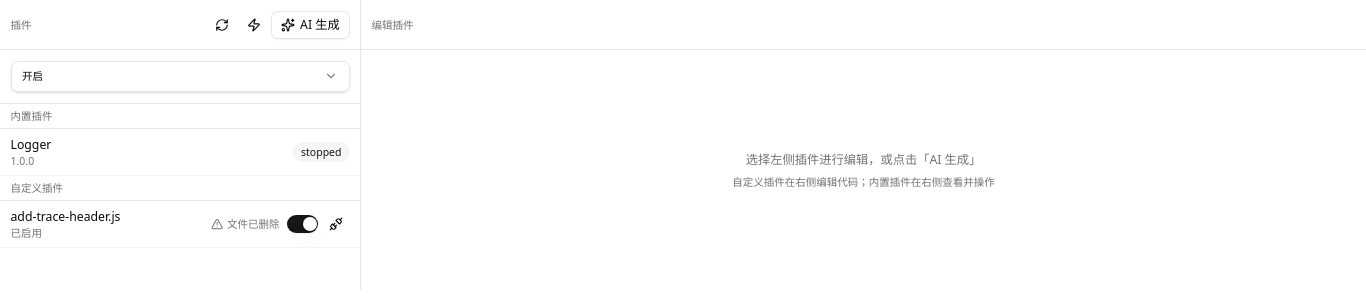
Test: PluginConfig list|edit › loaded plugin whose file was deleted › shows a muted note in the details pane explaining the file is gone
Click the element with test id "plugin-config-row-custom-deleted-add-trace-header" at (180, 224), box top-left (0, 201), bottom-right (360, 248)
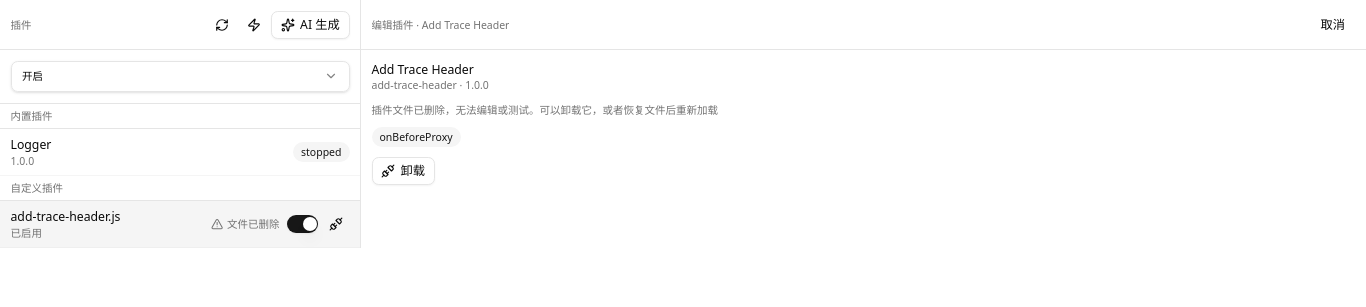
Expected: the text with test id "plugin-detail-note" reads "插件文件已删除，无法编辑或测试。可以卸载它，或者恢复文件后重新加载", top-left (372, 102), bottom-right (718, 116)
Note: Regular built-ins don't get the note
Click the element with test id "plugin-config-row-builtin-builtin.logger" at (180, 152), box top-left (0, 129), bottom-right (360, 176)
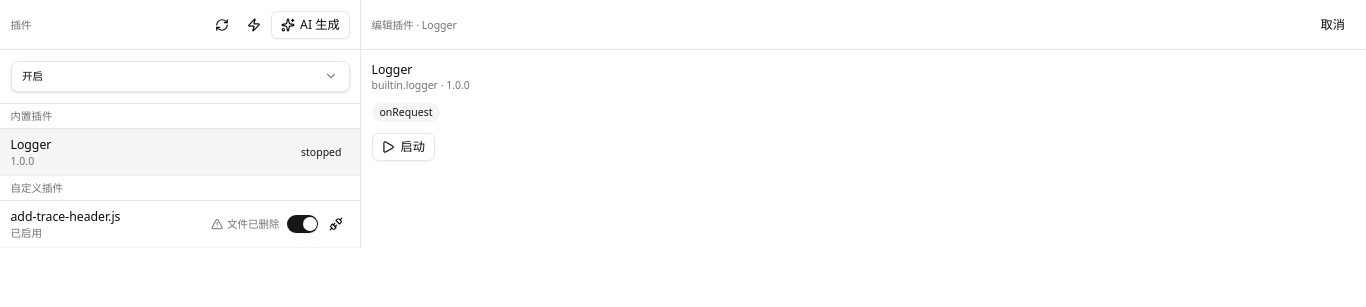
Expected: the text with test id "plugin-detail-note" is gone
